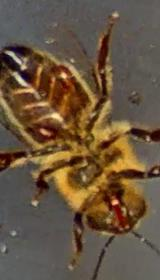varroa_mite: (46, 58, 98, 99), (27, 112, 73, 148)
